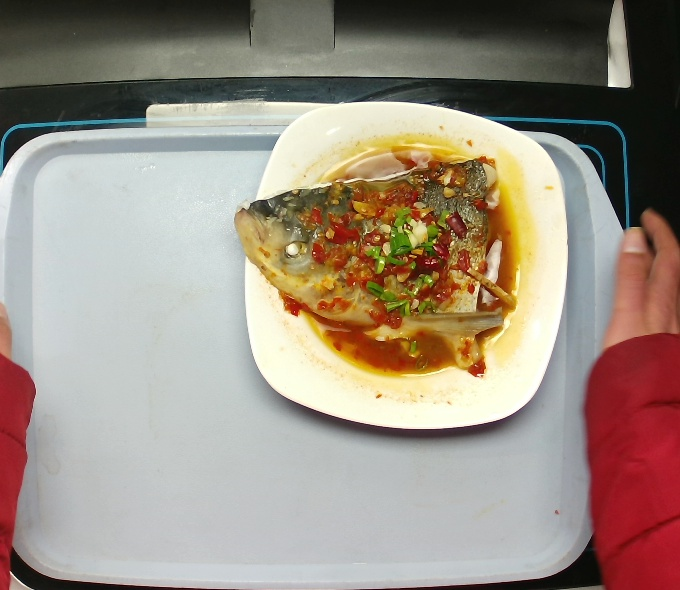wcq-DuoJiaoYuTou: (234, 152, 519, 379)
